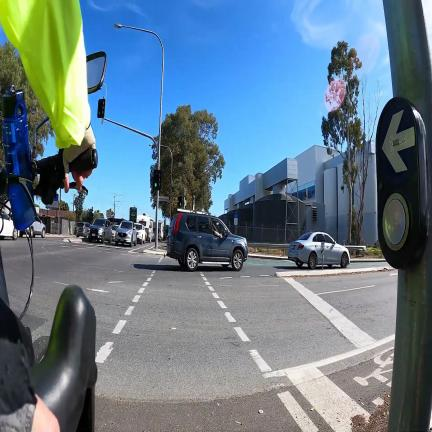Bike_Lane: (318, 342, 394, 413)
